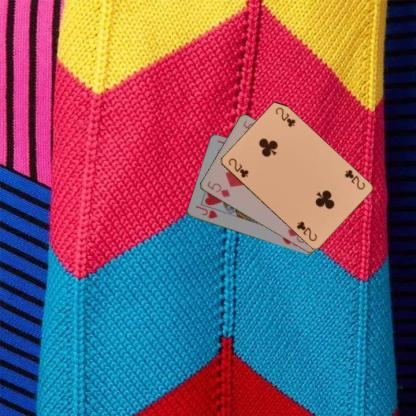2c: (341, 167, 366, 191), (225, 156, 250, 179)
5d: (204, 178, 231, 199)
Jh: (193, 203, 218, 220)
